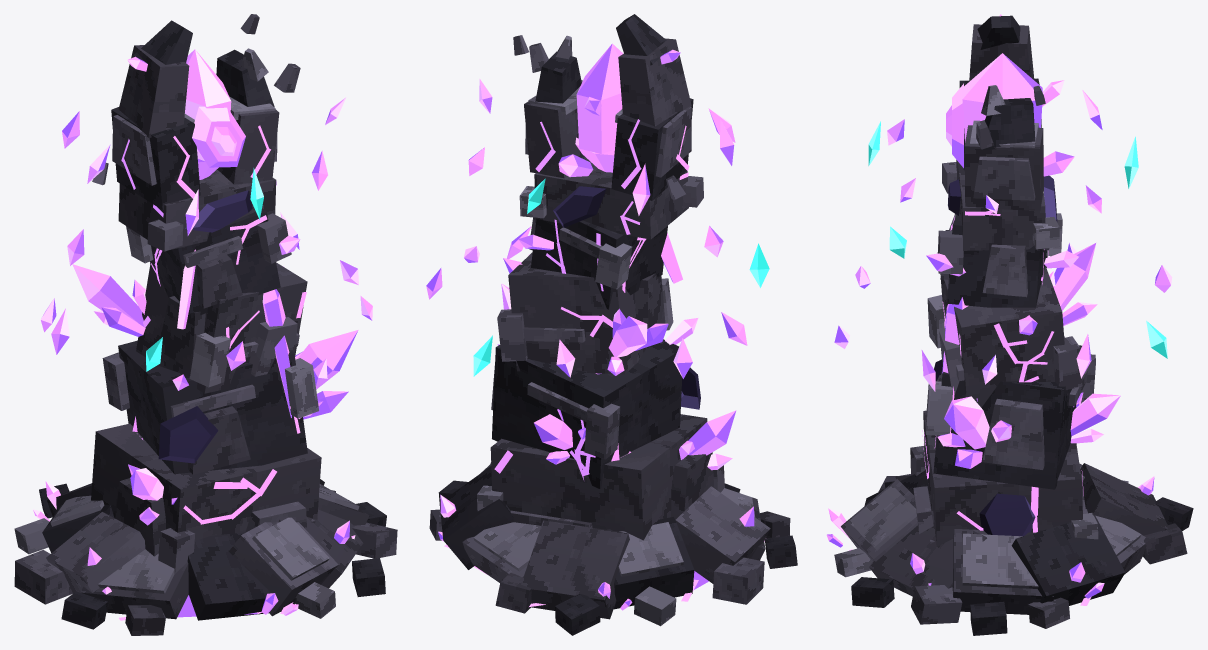
The model's file is fmob_spire.glb.
The picture shows the model from 3 angles, left to right: view 1: azimuth 30°, elevation 25°; view 2: azimuth 150°, elevation 25°; view 3: azimuth 270°, elevation 25°; orthographic projection. The views are drawn at different scales.
Parts seen in each view (by area): view 1: fmob_spire, glow_shards, glow_cracks, spinZ_ring_a, weak_core, glow_core, spinZ_ring_b; view 2: fmob_spire, glow_shards, glow_core, spinZ_ring_a, glow_cracks, spinZ_ring_b; view 3: fmob_spire, glow_shards, glow_core, spinZ_ring_a, spinZ_ring_b, glow_cracks, weak_core.
Part boxes in pixels (x1,y1,x2,y2): fmob_spire: (14, 14, 397, 635); glow_shards: (33, 56, 358, 615); glow_cracks: (119, 125, 306, 620); spinZ_ring_a: (41, 212, 372, 385); weak_core: (192, 106, 245, 167); glow_core: (185, 49, 231, 179); spinZ_ring_b: (62, 97, 346, 235); fmob_spire: (429, 14, 797, 635); glow_shards: (438, 49, 754, 610); glow_core: (558, 43, 623, 177); spinZ_ring_a: (426, 226, 769, 378); glow_cracks: (444, 119, 764, 606); spinZ_ring_b: (468, 79, 735, 215); fmob_spire: (834, 15, 1193, 635); glow_shards: (826, 14, 1154, 598); glow_core: (962, 53, 1074, 176); spinZ_ring_a: (834, 226, 1172, 391); spinZ_ring_b: (868, 90, 1138, 214); glow_cracks: (848, 210, 1140, 605); weak_core: (946, 83, 963, 168).
Size of the model in its own units: 2.2 by 3.4 by 2.14.
17 materials, 4 textured.
